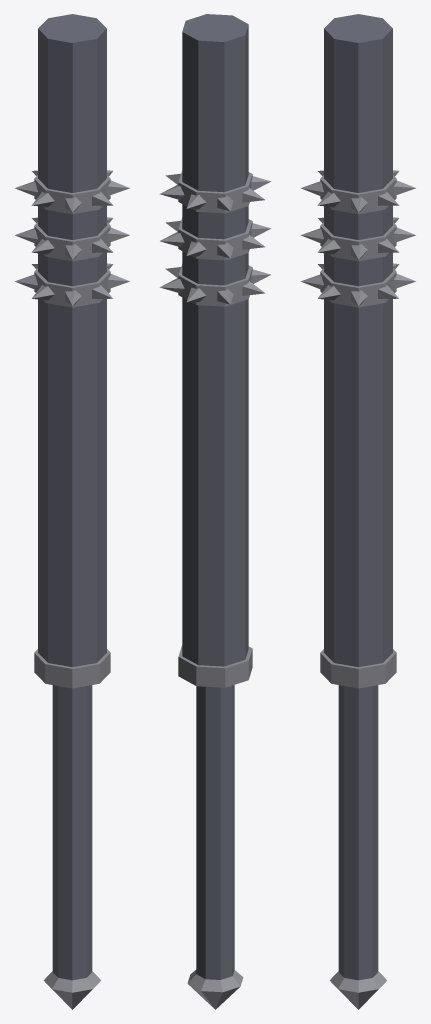
File: _hammer_18.fbx
3 renders of one model, left to right at view 1: azimuth 90°, elevation 25°; view 2: azimuth 150°, elevation 25°; view 3: azimuth 270°, elevation 25°, orthographic.
Parts seen in each view (by area): view 1: hammer_18; view 2: hammer_18; view 3: hammer_18.
Boxes of the visible parts, box(x1,y1,x2,y2) form: hammer_18: box(15, 14, 129, 1009); hammer_18: box(159, 14, 271, 1009); hammer_18: box(301, 14, 415, 1009).
Bounding box in the file's own units: 9.36 × 87.4 × 9.36.
